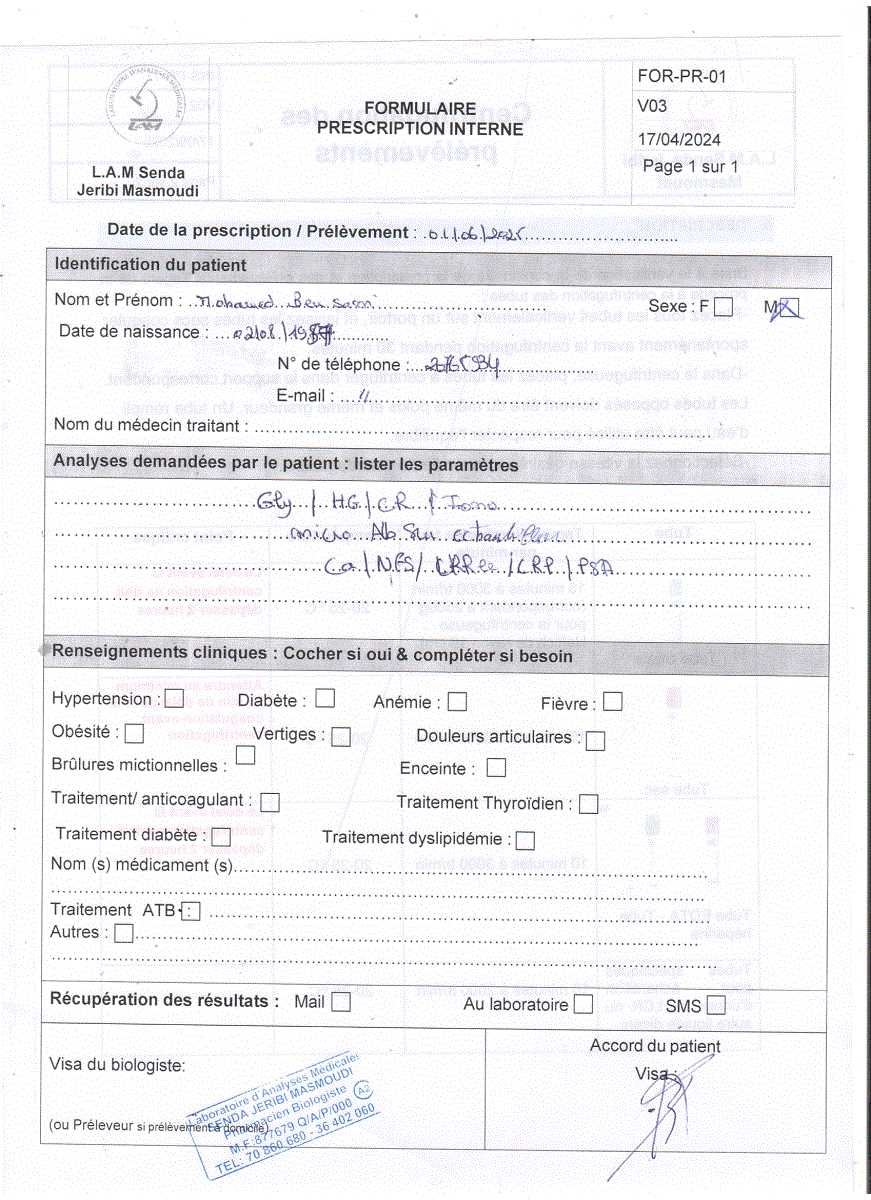zone_analyses: (42, 442, 674, 630)
zone_patient: (85, 201, 651, 245)
zone_prescripteur: (46, 247, 837, 416)
